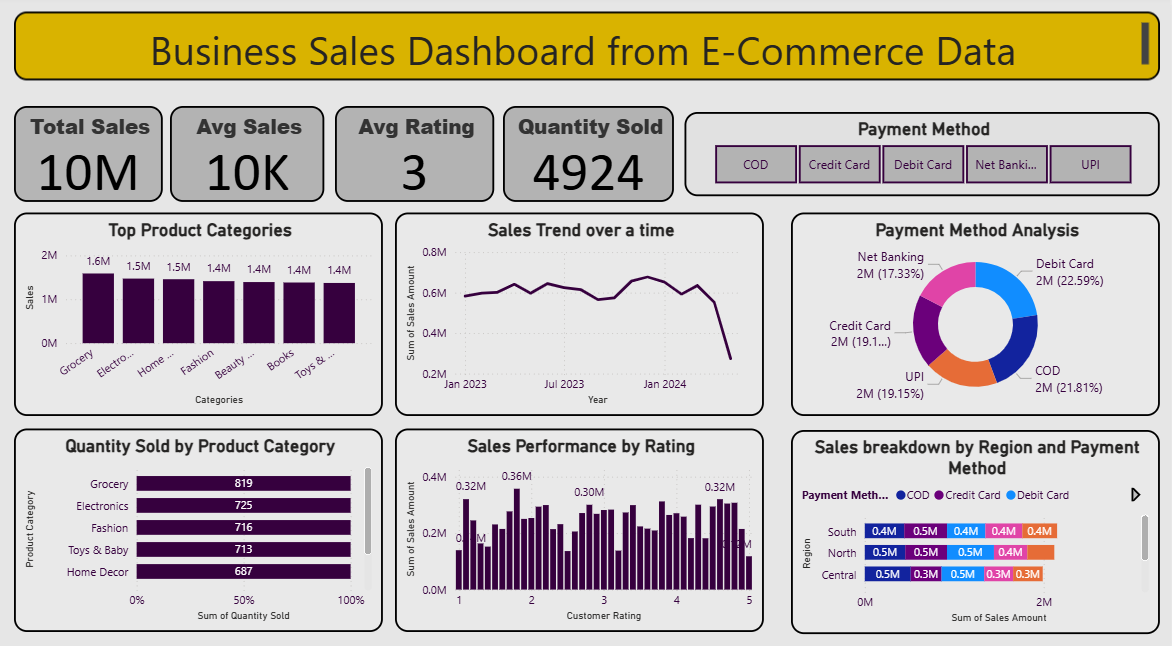

The page's visual inventory and layout, read from the dashboard file:
{"tool":"powerbi","page":{"name":"Sales Dashboard","canvas":[1280,720],"ordinal":0},"visuals":[{"type":"card","title":"Avg Sales","fields":{"Values":["Avg(Sheet1.Sales Amount)"]},"box":[195.2,120.4,167.5,104.1],"z":0},{"type":"card","title":"Quantity Sold","fields":{"Values":["Sum(Sheet1.Quantity Sold)"]},"box":[556.3,120.4,185.4,104.1],"z":1000},{"type":"card","title":"Avg Rating","fields":{"Values":["Avg(Sheet1.Customer Rating)"]},"box":[374.1,120.4,172.4,104.1],"z":2000},{"type":"card","title":"Total Sales","fields":{"Values":["Sum(Sheet1.Sales Amount)"]},"box":[26,120.4,161,104.1],"z":3000},{"type":"columnChart","title":"Top Product Categories","fields":{"Y":["Sum(Sheet1.Sales Amount)"],"Category":["Sheet1.Product Category"]},"box":[25.9,236.2,400,220.7],"z":5000},{"type":"lineChart","title":"Sales Trend over a time","fields":{"Category":["Sheet1.Order Date.Variation.Date Hierarchy.Year","Sheet1.Order Date.Variation.Date Hierarchy.Quarter","Sheet1.Order Date.Variation.Date Hierarchy.Month","Sheet1.Order Date.Variation.Date Hierarchy.Day"],"Y":["Sum(Sheet1.Sales Amount)"]},"box":[439.7,236.2,400,220.7],"z":6000},{"type":"donutChart","title":"Payment Method Analysis","fields":{"Category":["Sheet1.Payment Method"],"Y":["Sum(Sheet1.Sales Amount)"]},"box":[869,236.2,400,220.7],"z":7000},{"type":"hundredPercentStackedBarChart","title":"Quantity Sold by Product Category","fields":{"Category":["Sheet1.Product Category"],"Y":["Sum(Sheet1.Quantity Sold)"]},"box":[25.9,470.7,400,220.7],"z":8000},{"type":"clusteredColumnChart","title":"Sales Performance by Rating","fields":{"Category":["Sheet1.Customer Rating"],"Y":["Sum(Sheet1.Sales Amount)"]},"box":[439.7,470.7,400,220.7],"z":9000},{"type":"barChart","title":"Sales breakdown by Region and Payment Method","fields":{"Category":["Sheet1.Region"],"Y":["Sum(Sheet1.Sales Amount)"],"Series":["Sheet1.Payment Method"]},"box":[869,471,400,221],"z":10000},{"type":"slicer","title":"Payment Method","fields":{"Values":["Sheet1.Payment Method"]},"box":[753.1,126.9,515.6,91.1],"z":11000},{"type":"textbox","box":[26,17.9,1242.7,74.8],"z":12000}]}

Visuals, with their boxes in screenshot pixels (x1, y1, x2, y2), scaled from the page's 1280x720 canvas onto the 1172x646 screenshot:
"Avg Sales" card: (179,108,332,201)
"Quantity Sold" card: (509,108,679,201)
"Avg Rating" card: (343,108,500,201)
"Total Sales" card: (24,108,171,201)
"Top Product Categories" columnChart: (24,212,390,410)
"Sales Trend over a time" lineChart: (403,212,769,410)
"Payment Method Analysis" donutChart: (796,212,1162,410)
"Quantity Sold by Product Category" hundredPercentStackedBarChart: (24,422,390,620)
"Sales Performance by Rating" clusteredColumnChart: (403,422,769,620)
"Sales breakdown by Region and Payment Method" barChart: (796,423,1162,621)
"Payment Method" slicer: (690,114,1162,196)
textbox: (24,16,1162,83)
